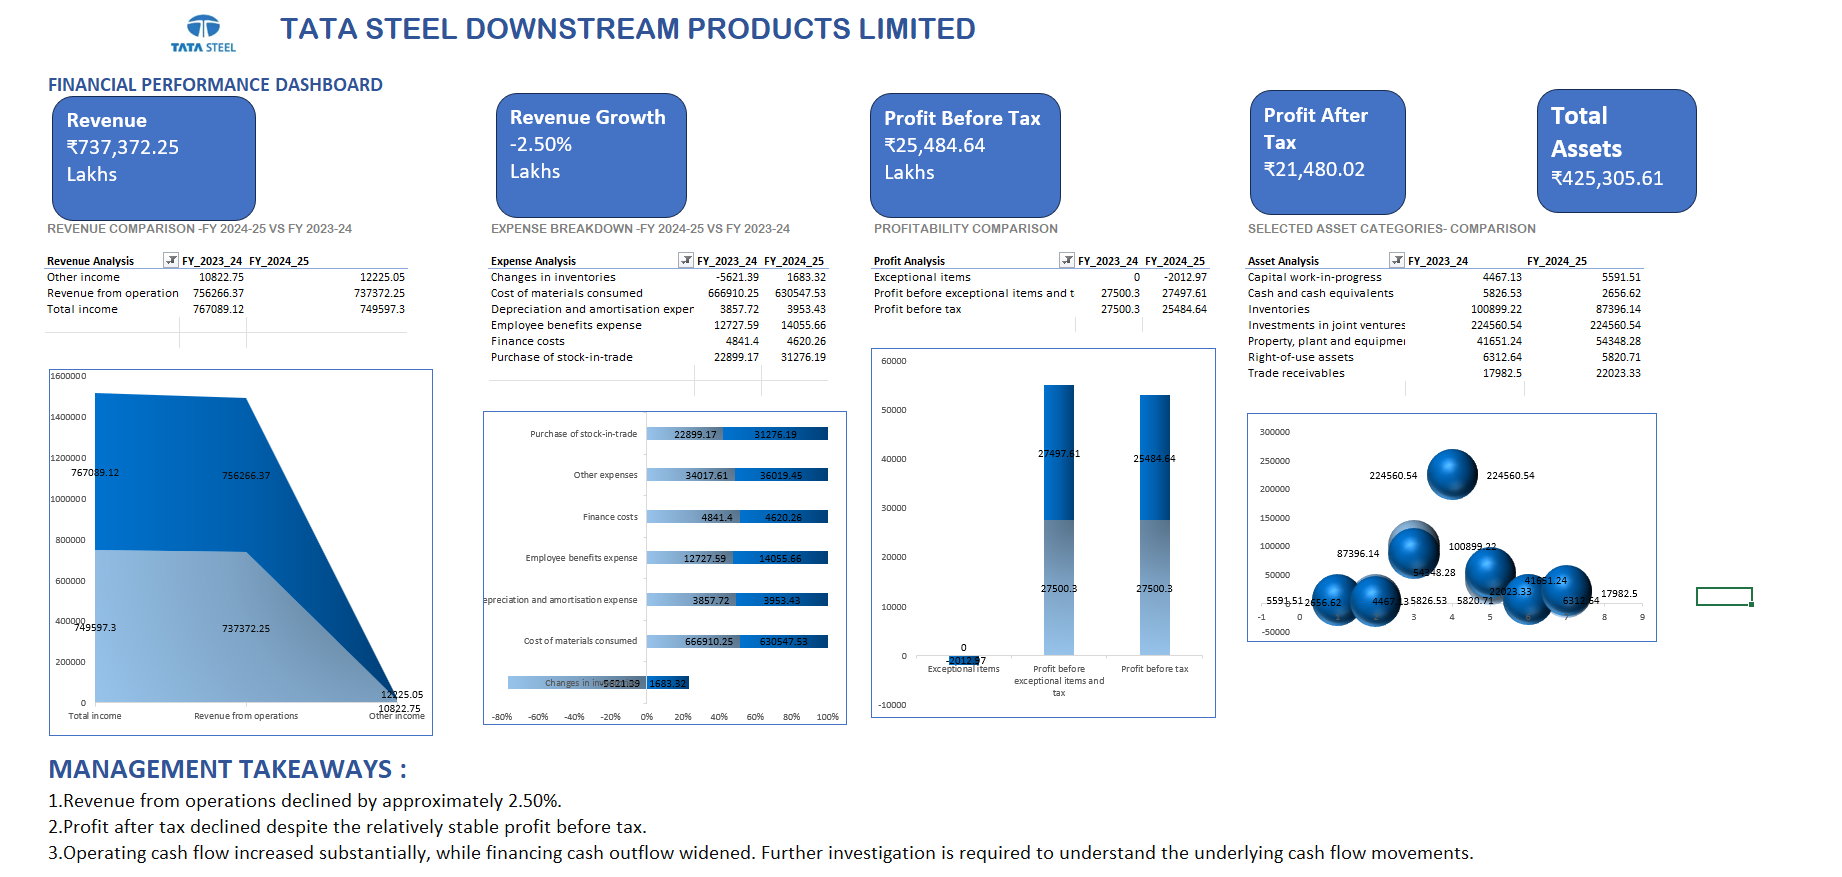

The dashboard page shown, as its layout file describes it:
{"tool":"powerbi","page":{"name":"Executive Dashboard","canvas":[2560,1440],"ordinal":0},"visuals":[{"type":"textbox","box":[70.9,0,2426.1,181],"z":0},{"type":"cardVisual","fields":{"Data":["Financial_Data.Revenue FY25"]},"box":[165.8,180.5,226.2,128.5],"z":0,"group":"g4"},{"type":"cardVisual","fields":{"Data":["Financial_Data.Total Income FY25"]},"box":[556.6,182.6,219,128.5],"z":1000,"group":"g4"},{"type":"clusteredColumnChart","title":"Revenue From Operations | FY 2023-24 vs FY 2024-25","fields":{"Y":["Financial_Data.Revenue FY24","Financial_Data.Revenue FY25"]},"box":[508,352,530,434],"z":1000,"group":"g2"},{"type":"cardVisual","fields":{"Data":["Financial_Data.PBT FY25"]},"box":[1311.2,182.6,226.7,129.1],"z":2000,"group":"g4"},{"type":"clusteredColumnChart","title":"Profitability Comparison | FY 2023-24 vs FY 2024-25","fields":{"Y":["Financial_Anaylsis.PBT FY24","Financial_Data.PBT FY25","Financial_Anaylsis.PAT FY24","Financial_Anaylsis.PAT FY25"]},"box":[1425.1,354.1,610.7,432.3],"z":2000,"group":"g2"},{"type":"cardVisual","fields":{"Data":["Financial_Data.Profit Before Exceptional Items FY25"]},"box":[1702.6,181.3,318.5,129.2],"z":3000,"group":"g4"},{"type":"clusteredBarChart","title":"Expense Composition | FY2024-25","fields":{"Category":["Financial_Data.Particulars"],"Y":["Sum(Financial_Data.FY_2024_25_Rs_Lakhs)"]},"box":[507.9,814.4,552.8,467.9],"z":3000,"group":"g3"},{"type":"cardVisual","fields":{"Data":["Financial_Data.Total Expenses FY25"]},"box":[940.2,182.6,206.3,128.5],"z":4000,"group":"g4"},{"type":"donutChart","title":"Selected Non-Current Asset Composition | FY 2024-25","fields":{"Category":["Financial_Data.Particulars"],"Y":["Sum(Financial_Data.FY_2024_25_Rs_Lakhs)"]},"box":[1340,814.3,695.8,467.9],"z":4000,"group":"g3"},{"type":"cardVisual","fields":{"Data":["Financial_Anaylsis.PAT FY25"]},"box":[2185.7,182.6,205.8,129.1],"z":5000,"group":"g4"},{"type":"textbox","box":[72,328,208,84],"z":5000},{"type":"textbox","box":[16.8,568.7,495.3,375.7],"z":6000},{"type":"textbox","box":[2019,1362.1,541.5,77.7],"z":7000},{"type":"group","id":"g1","title":"Group 1","box":[165.8,180.5,2225.7,131.1],"z":8000},{"type":"group","id":"g2","title":"Group 3","box":[508,352,1527.9,434.4],"z":8001},{"type":"group","id":"g3","title":"Group 4","box":[507.9,814.3,1527.9,468],"z":8002},{"type":"group","id":"g4","title":"Group 2","box":[165.8,180.5,2225.7,131.1],"z":13002,"group":"g1"}]}

Visuals, with their boxes on the page's 2560x1440 design canvas (x1, y1, x2, y2). These are canvas units, not pixel positions in the 1842x877 screenshot, which may show the page scaled, cropped or inside an application window:
textbox: [71,0,2497,181]
cardVisual - Financial_Data.Revenue FY25: [166,180,392,309]
cardVisual - Financial_Data.Total Income FY25: [557,183,776,311]
"Revenue From Operations | FY 2023-24 vs FY 2024-25" clusteredColumnChart: [508,352,1038,786]
cardVisual - Financial_Data.PBT FY25: [1311,183,1538,312]
"Profitability Comparison | FY 2023-24 vs FY 2024-25" clusteredColumnChart: [1425,354,2036,786]
cardVisual - Financial_Data.Profit Before Exceptional Items FY25: [1703,181,2021,310]
"Expense Composition | FY2024-25" clusteredBarChart: [508,814,1061,1282]
cardVisual - Financial_Data.Total Expenses FY25: [940,183,1146,311]
"Selected Non-Current Asset Composition | FY 2024-25" donutChart: [1340,814,2036,1282]
cardVisual - Financial_Anaylsis.PAT FY25: [2186,183,2392,312]
textbox: [72,328,280,412]
textbox: [17,569,512,944]
textbox: [2019,1362,2560,1440]
"Group 1" group: [166,180,2392,312]
"Group 3" group: [508,352,2036,786]
"Group 4" group: [508,814,2036,1282]
"Group 2" group: [166,180,2392,312]
